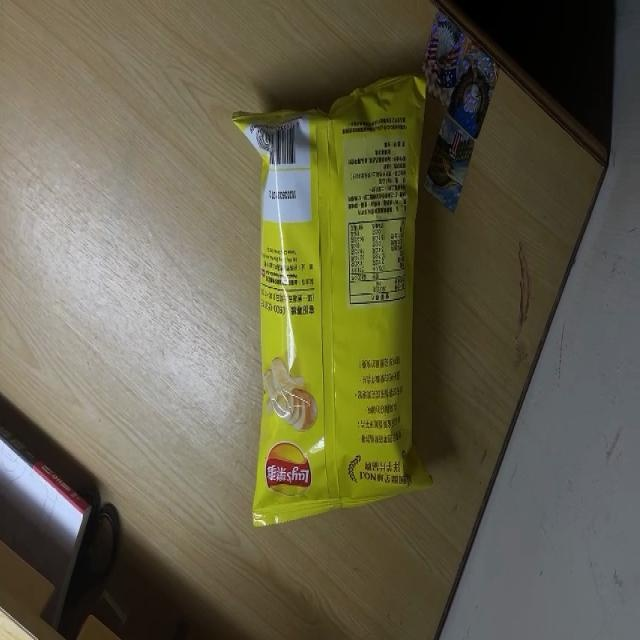Lay-s-original: (231, 74, 435, 527)
